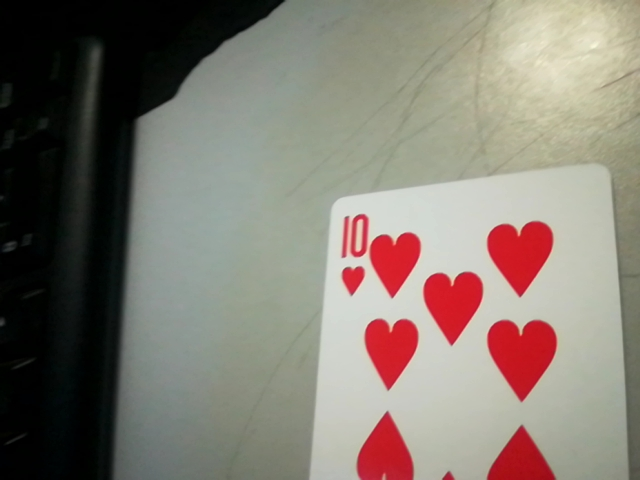hx 10: (326, 205, 372, 298)
